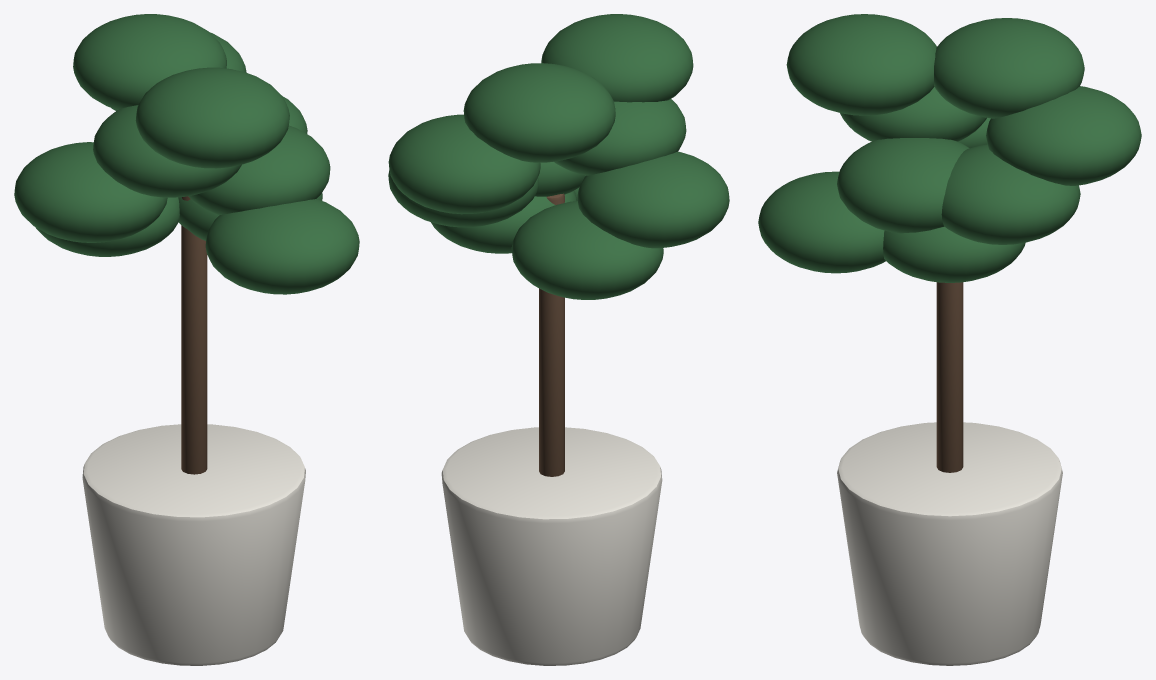
Rendered from plant_large.glb.
3 views of the same model, side by side, from view 1: azimuth 30°, elevation 25°; view 2: azimuth 150°, elevation 25°; view 3: azimuth 270°, elevation 25° (orthographic). The views are drawn at different scales.
Visible parts, largest first — view 1: pot, leaf7, leaf8, leaf5, leaf3, trunk, leaf9, leaf6, leaf4, leaf0, leaf2; view 2: pot, leaf3, leaf5, leaf2, leaf4, leaf7, leaf6, trunk, leaf0, leaf1, leaf9; view 3: pot, leaf7, leaf3, leaf2, leaf1, leaf9, leaf8, leaf0, trunk, leaf6.
Boxes of the visible parts, x1,y1,x2,y2 form: pot: (82,424,305,665); leaf7: (135,67,289,168); leaf8: (205,199,359,294); leaf5: (14,142,167,242); leaf3: (73,14,226,109); trunk: (181,196,207,474); leaf9: (188,125,330,215); leaf6: (93,105,241,197); leaf4: (35,197,179,256); leaf0: (178,193,322,240); leaf2: (111,32,246,110); pot: (441,427,662,665); leaf3: (463,63,615,162); leaf5: (577,151,729,248); leaf2: (388,114,540,214); leaf4: (511,201,663,299); leaf7: (541,14,693,102); leaf6: (554,99,686,175); trunk: (539,193,564,476); leaf0: (431,190,576,253); leaf1: (388,170,538,227); leaf9: (535,162,585,196); pot: (837,422,1062,665); leaf7: (786,14,936,115); leaf3: (934,18,1084,118); leaf2: (986,86,1141,185); leaf1: (941,144,1080,244); leaf9: (837,138,969,233); leaf8: (758,171,885,273); leaf0: (883,226,1025,282); trunk: (936,282,963,472); leaf6: (840,87,986,141).
Size of the model in its own units: 0.5814 by 1.09 by 0.6404.
